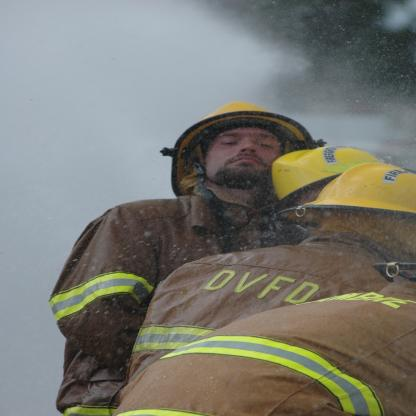Helmet: (175, 100, 311, 197), (276, 160, 416, 236), (269, 146, 381, 212)
